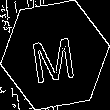M_N: (30, 27, 80, 83)
